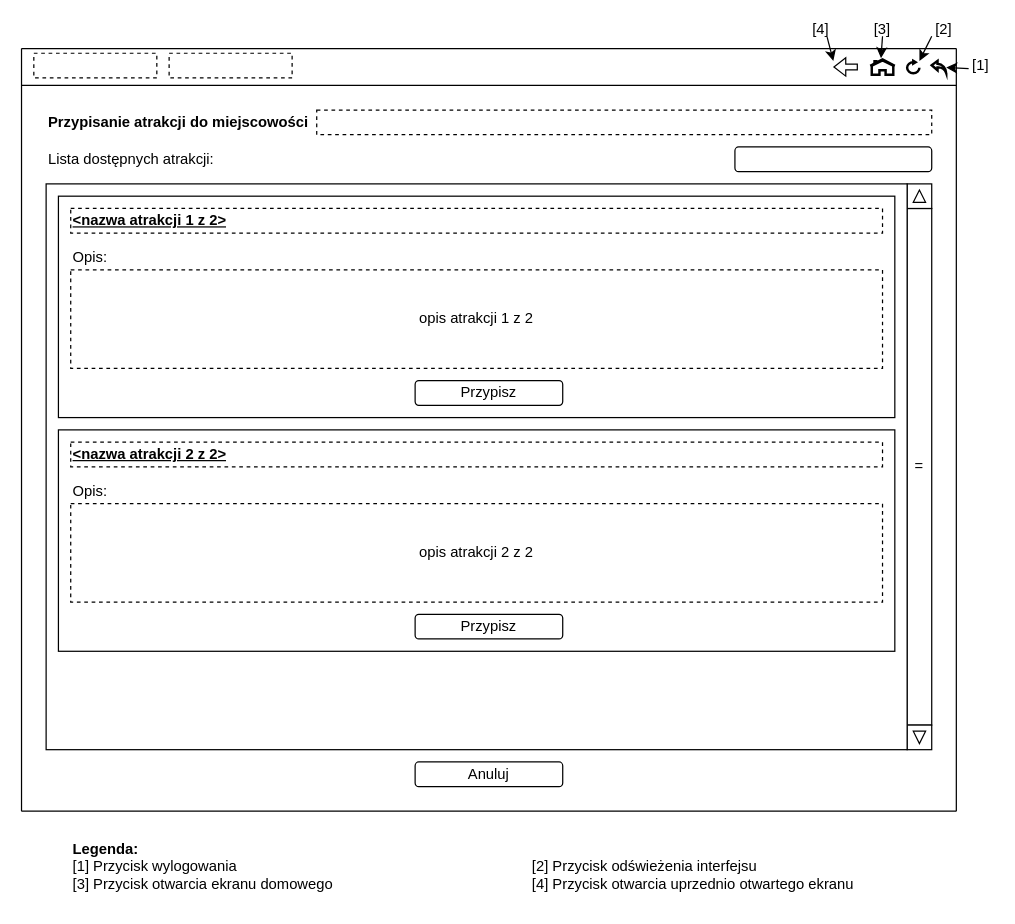
The diagram is 1015 pixels wide and 924 high, and some of its shapes have lost their labels. The centre of each missing label's shape, as x and y in pixels:
<nazwa miejscowości> :: point (623, 122)
login: point (95, 65)
Przypisz nową atrakcję: point (833, 159)
rola: point (230, 65)
